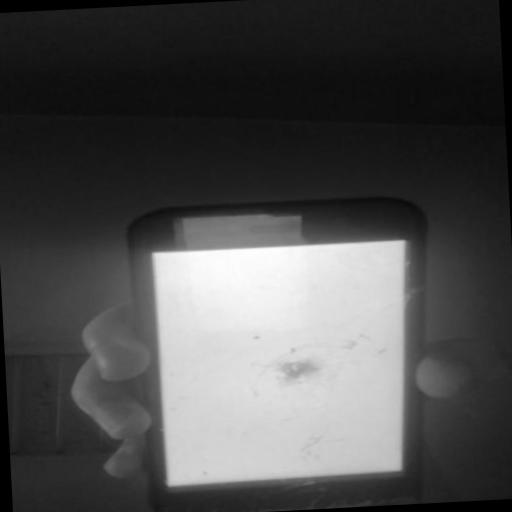phone: (122, 211, 430, 512)
